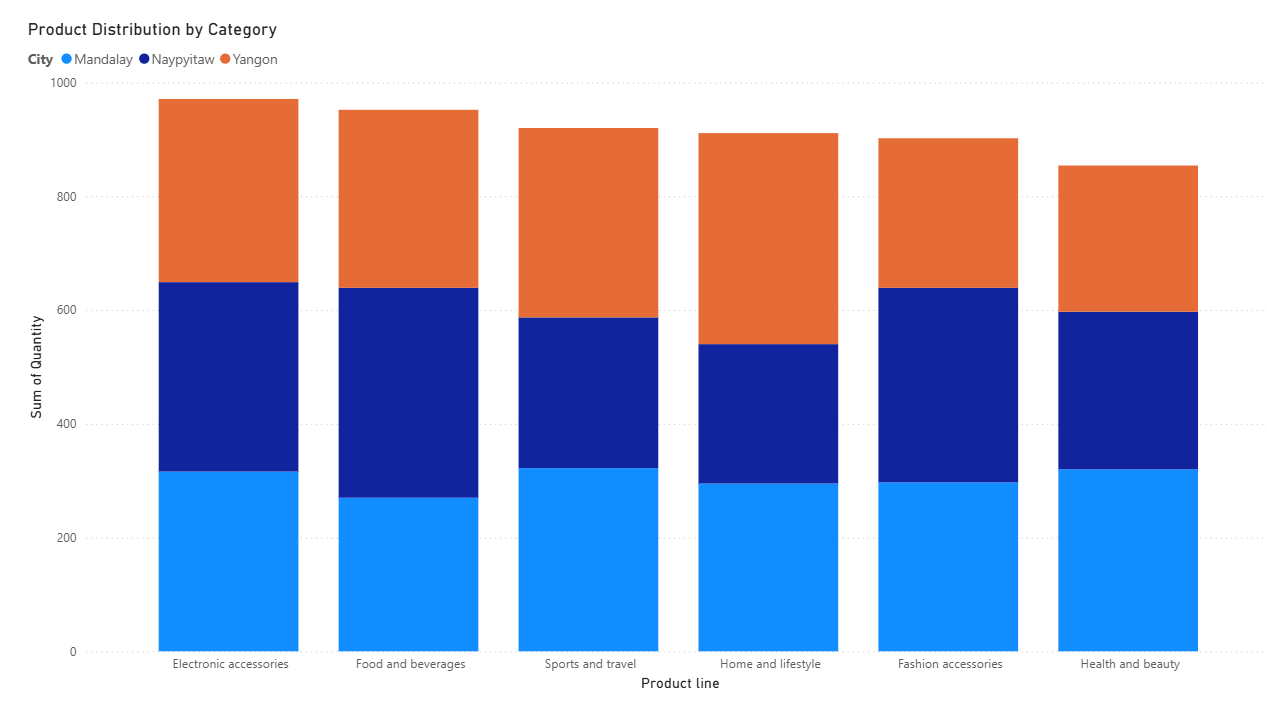

The page's visual inventory and layout, read from the dashboard file:
{"tool":"powerbi","page":{"name":"Product Distribution by Category","canvas":[1280,720],"ordinal":4},"visuals":[{"type":"columnChart","title":"Product Distribution by Category","fields":{"Category":["supermarket_sales - Sheet1.Product line"],"Y":["Sum(supermarket_sales - Sheet1.Quantity)"],"Series":["supermarket_sales - Sheet1.City"]},"box":[23.3,41.2,1229.5,662.8],"z":0}]}

Visuals, with their boxes in screenshot pixels (x1, y1, x2, y2), scaled from the page's 1280x720 canvas onto the 1267x709 screenshot:
"Product Distribution by Category" columnChart: [23,41,1240,693]
